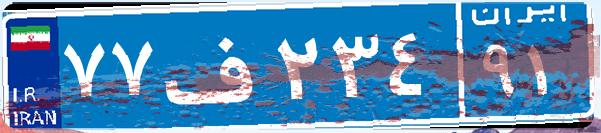1: (525, 38, 570, 115)
2: (273, 28, 330, 110)
3: (330, 28, 385, 110)
4: (385, 28, 445, 110)
7: (57, 26, 110, 107), (110, 28, 158, 105)
9: (475, 38, 525, 113)
ف: (158, 15, 273, 115)
